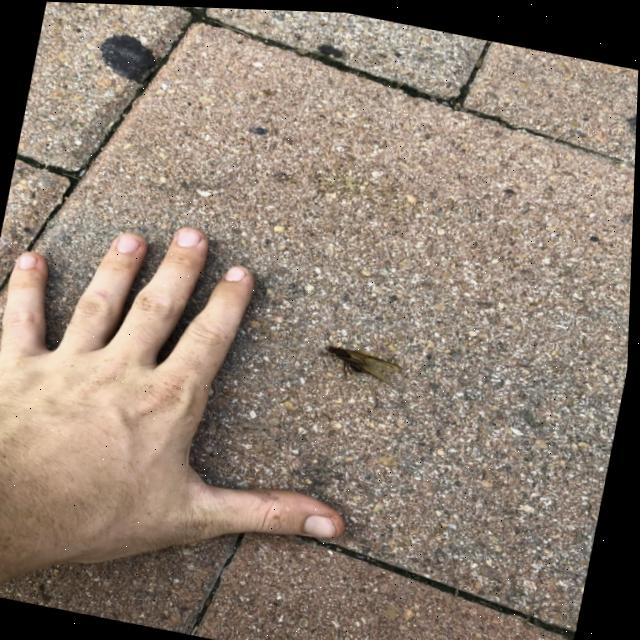Alive-Female-Alate: (322, 342, 408, 387)
